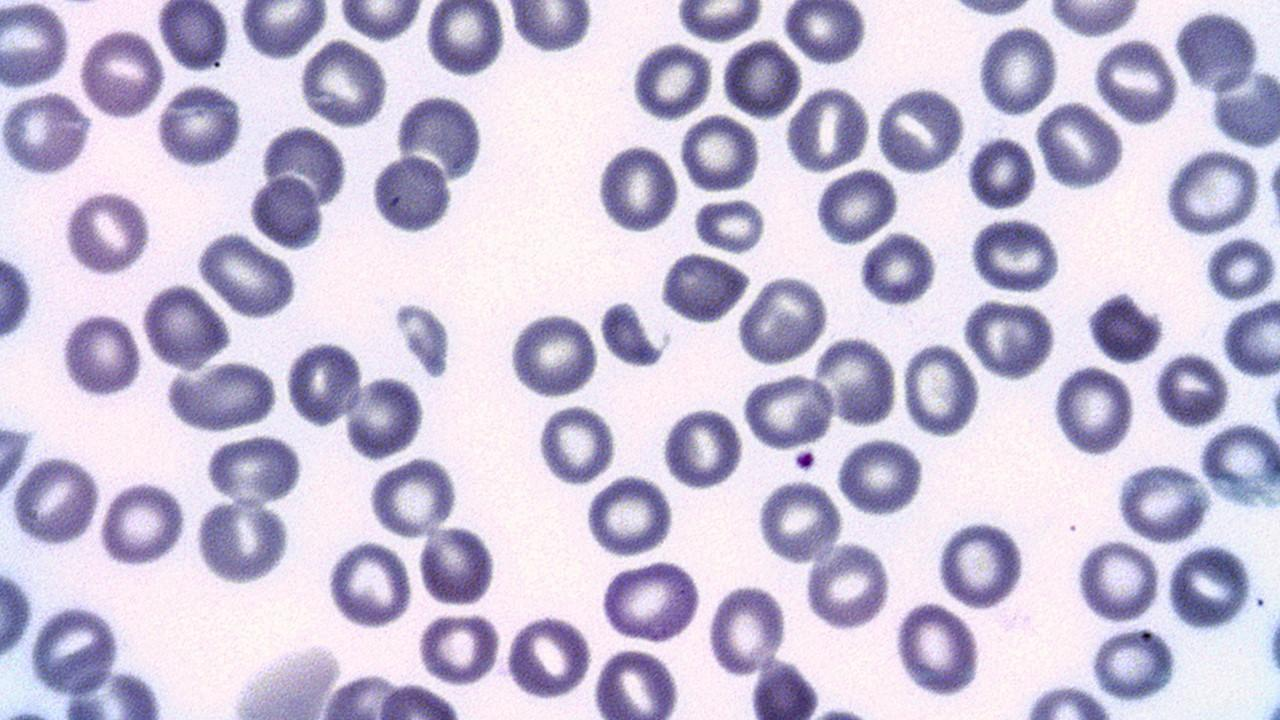Platelets: (194, 497, 295, 585), (654, 252, 746, 322), (1083, 289, 1167, 363), (391, 294, 455, 382), (595, 299, 667, 370), (748, 657, 823, 720), (507, 2, 596, 55), (0, 248, 36, 349), (790, 448, 818, 472), (1263, 694, 1280, 718)
RBC: (27, 602, 122, 698), (192, 232, 299, 317), (598, 558, 703, 644), (1164, 146, 1262, 237), (9, 453, 102, 548), (894, 600, 984, 698), (393, 90, 485, 185), (507, 305, 599, 400), (735, 272, 830, 364), (874, 82, 966, 176), (195, 495, 288, 587), (77, 26, 166, 122), (802, 540, 892, 634), (97, 478, 188, 570), (1050, 362, 1136, 459), (935, 519, 1027, 609), (62, 188, 154, 278), (1034, 100, 1126, 190), (324, 538, 412, 632), (593, 141, 681, 235), (298, 39, 390, 128), (960, 296, 1057, 380), (1164, 542, 1252, 634), (0, 89, 92, 177), (504, 610, 592, 702), (814, 332, 898, 428), (706, 580, 788, 678), (1113, 462, 1211, 544), (154, 80, 245, 168), (166, 361, 280, 431), (756, 476, 844, 566), (584, 472, 675, 559), (367, 454, 459, 540), (901, 340, 980, 440), (1174, 5, 1260, 96), (834, 435, 926, 520), (60, 307, 144, 400), (976, 24, 1058, 119), (259, 120, 347, 208), (1074, 536, 1162, 624), (1091, 37, 1179, 125), (968, 213, 1062, 295), (142, 283, 230, 370), (784, 84, 868, 175), (740, 371, 836, 450), (344, 371, 425, 462), (203, 433, 306, 504), (661, 404, 744, 491), (1088, 624, 1178, 704), (284, 337, 362, 429), (657, 249, 750, 326), (1198, 418, 1278, 506), (370, 151, 452, 236), (536, 401, 617, 487), (630, 40, 714, 122), (720, 37, 801, 121), (415, 608, 502, 686), (592, 646, 683, 720), (678, 114, 761, 195), (857, 229, 938, 310), (814, 167, 898, 245), (418, 524, 497, 606), (0, 0, 72, 89), (1208, 63, 1280, 150), (425, 1, 505, 78), (248, 172, 324, 251), (1085, 289, 1165, 364), (965, 132, 1038, 212), (1154, 352, 1230, 428), (782, 0, 867, 66), (238, 1, 329, 61), (158, 0, 231, 74), (1201, 234, 1277, 302), (1221, 297, 1279, 378), (508, 2, 593, 56), (690, 196, 766, 254), (1044, 0, 1144, 38), (675, 1, 765, 43), (0, 560, 34, 664), (335, 0, 421, 40), (375, 681, 465, 719)
WBC: (368, 0, 1280, 720), (3, 0, 584, 720), (0, 0, 697, 328), (194, 496, 294, 588), (396, 92, 486, 180), (1174, 4, 1260, 94), (368, 150, 454, 235), (1208, 66, 1278, 149), (508, 1, 595, 55), (0, 243, 35, 352), (1262, 578, 1280, 711)
